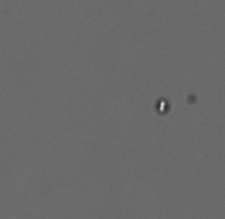Living Cell: (151, 96, 171, 115)
